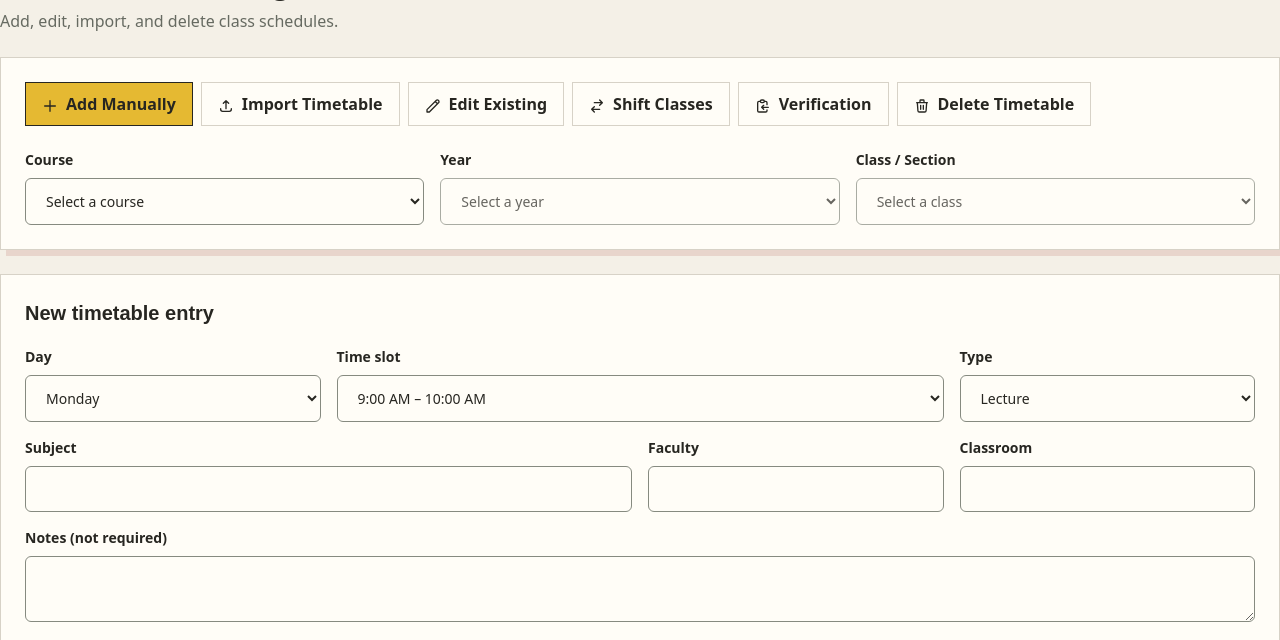
it: AdminTimetablePage › warns when the timetable identifies a coordinator without a complete phone number
The width and height of the screenshot is (1280, 640).
Select "B.Tech CSE AI" in the dropdown labelled "Course" at {"x": 225, "y": 202}, box [25,178,424,225]
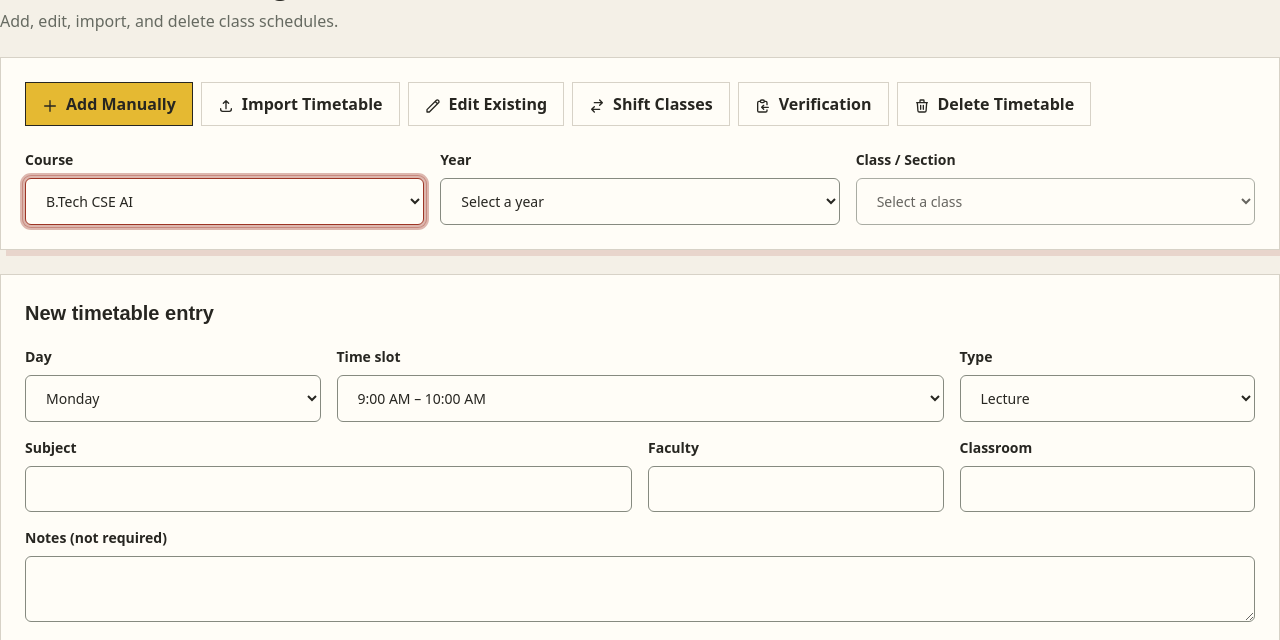
Select "Year 2" in the dropdown labelled "Year" at {"x": 640, "y": 202}, box [440,178,840,225]
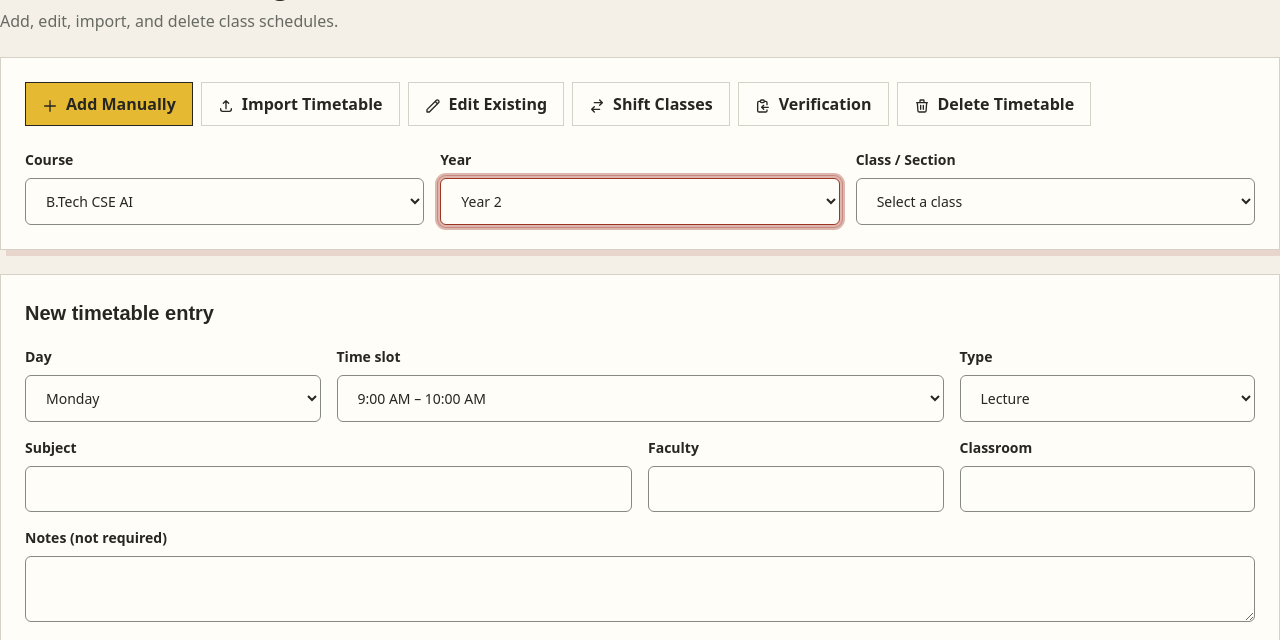
Select "CSAI2B" in the dropdown labelled "Class / Section" at {"x": 1055, "y": 202}, box [856,178,1255,225]
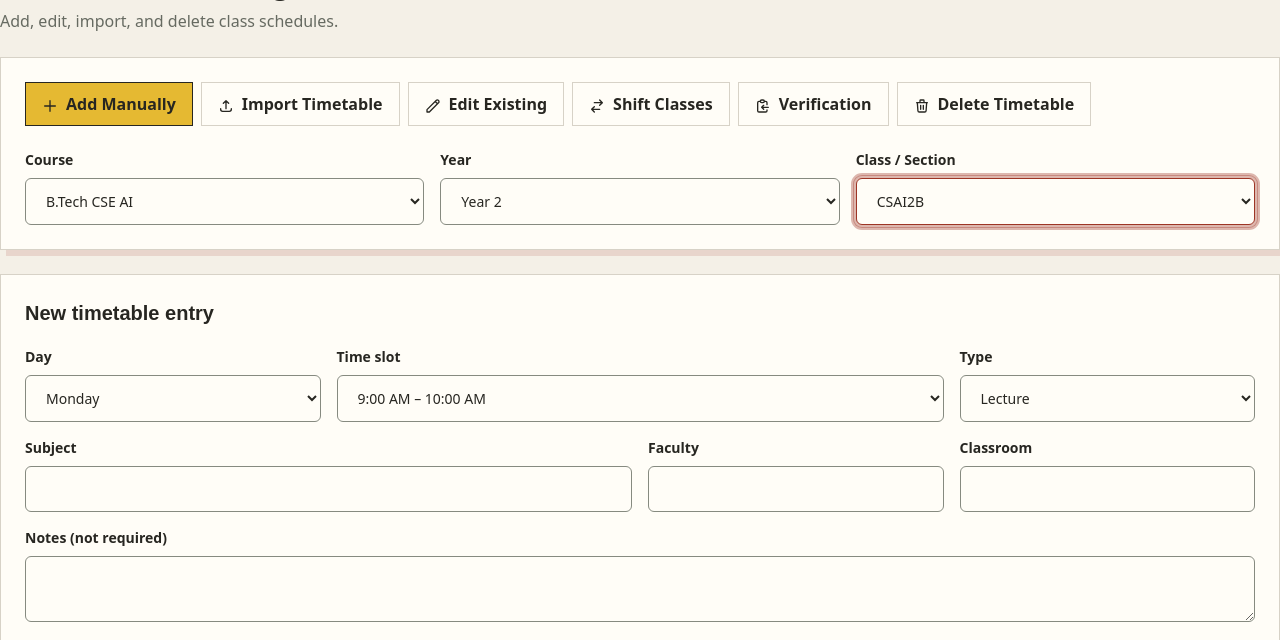
Click the tab "Import Timetable".
click(300, 104)  # box [201,82,400,126]
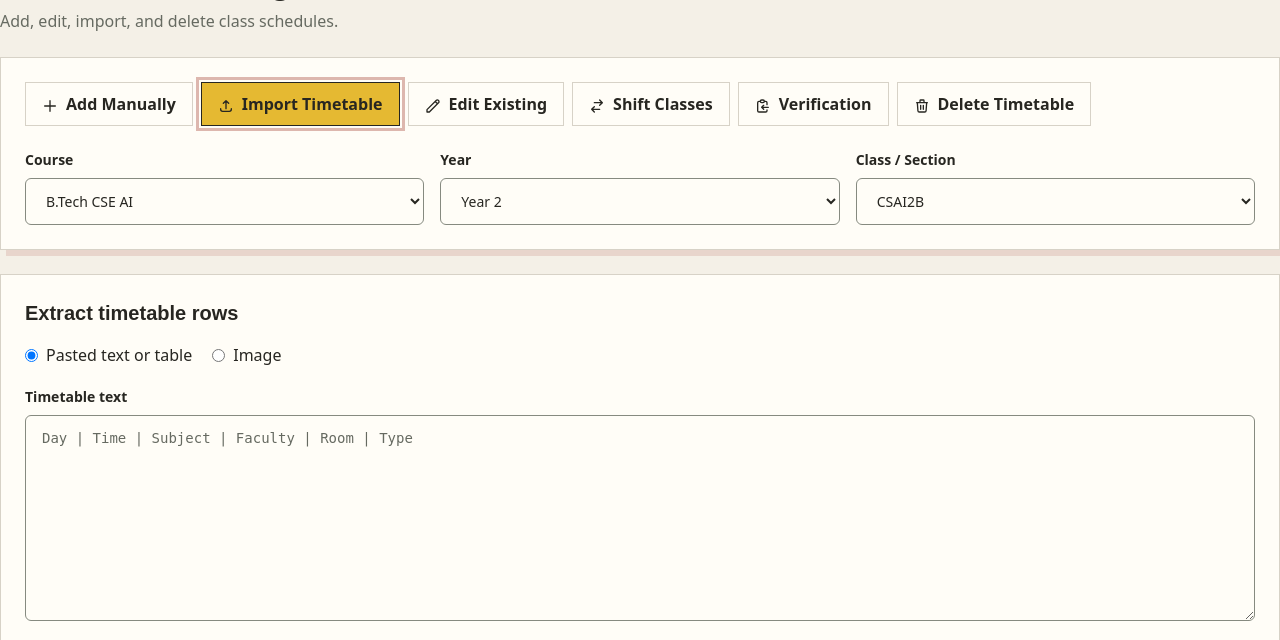
Type "Day | Time | Subject | Teacher | Room" into the text box labelled "Timetable text".
click(640, 518); type("Day | Time | Subject | Teacher | Room")  # box [25,415,1255,621]
(page scrolled)
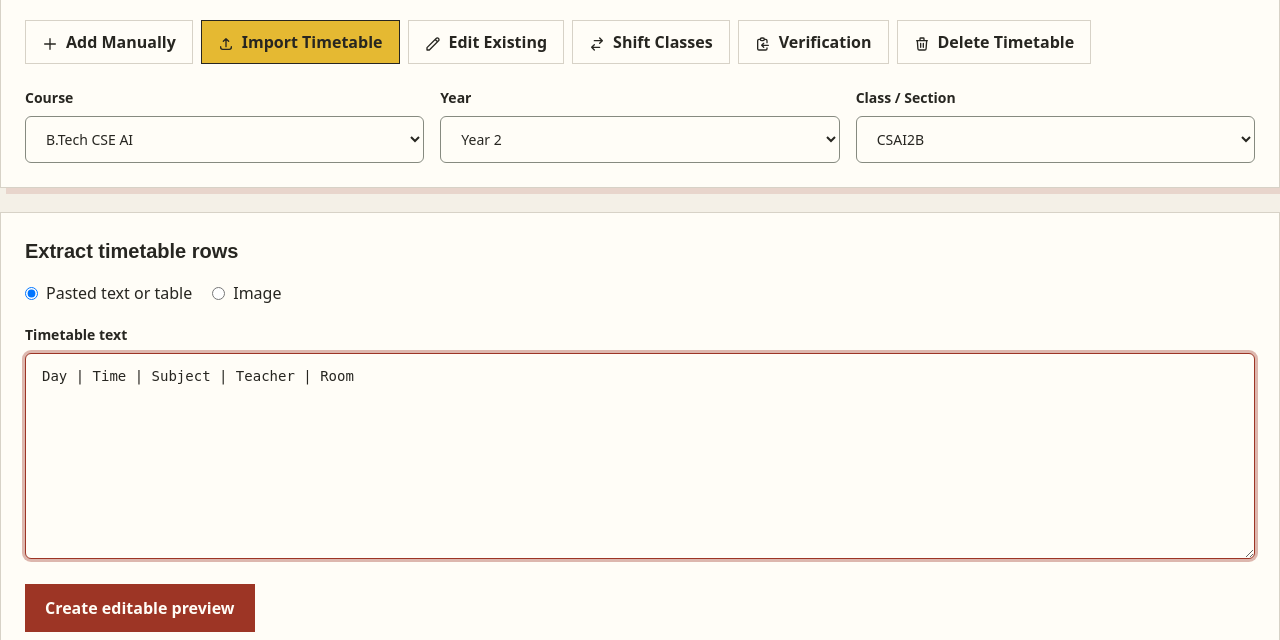
Click the button "Create editable preview".
click(140, 608)  # box [25,584,254,632]
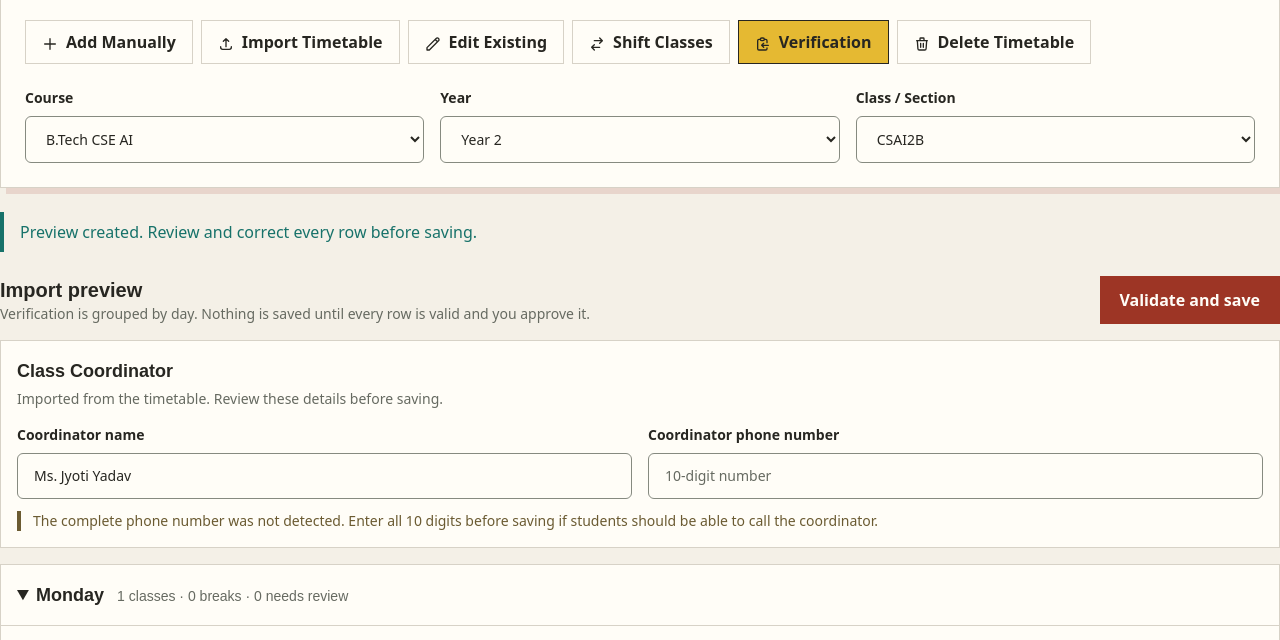
Expected: the text "complete phone number was not detected" is shown, [33,511,878,530]
